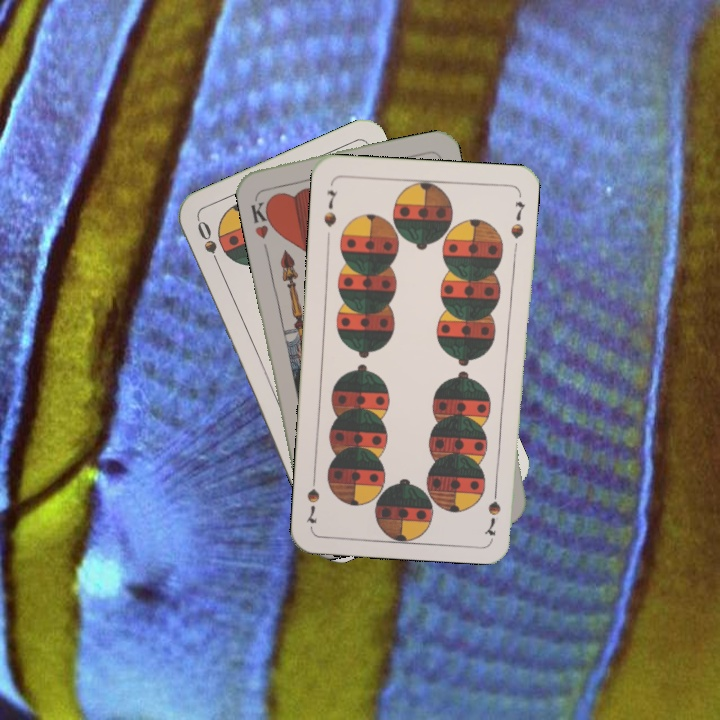HK: (246, 191, 277, 241)
S7: (483, 479, 503, 538), (319, 186, 340, 229)
SO: (193, 216, 224, 272)
